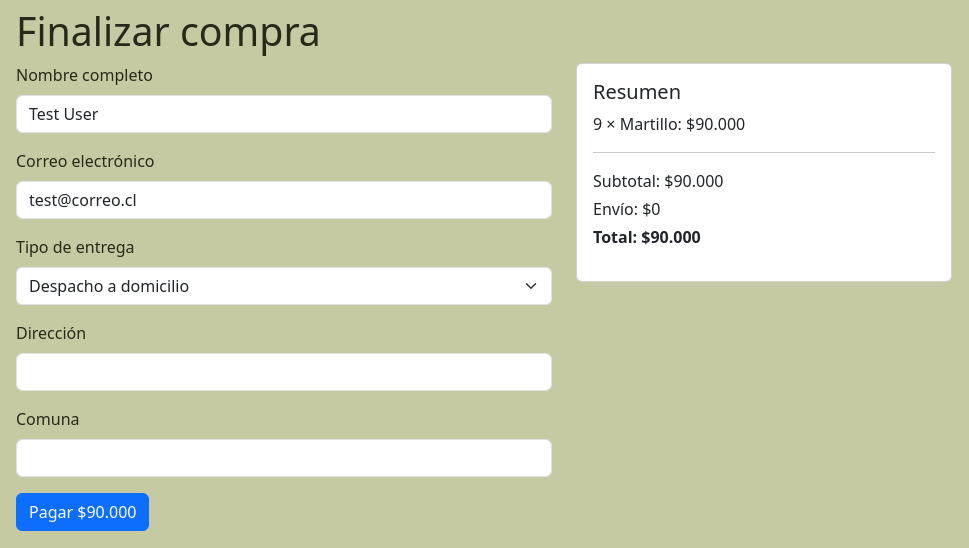
Scenario: CheckoutPage › shows the payment error inline and keeps the cart
This screenshot has width=969, height=548.
Select "Retiro en tienda (sin costo)" in the dropdown labelled "Tipo de entrega" at (284, 286), box [16,267,552,305]
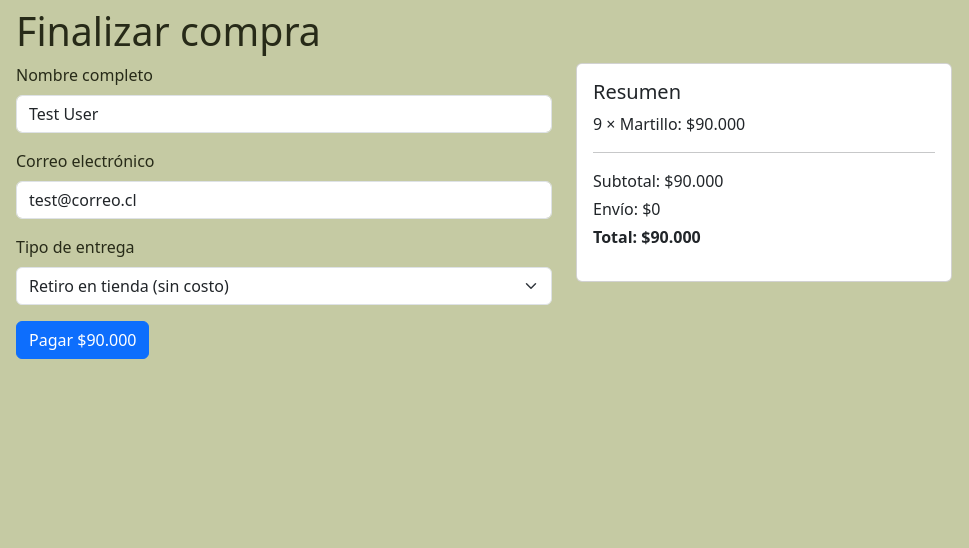
Click the button "Pagar $90.000" at (83, 340), box [16,321,150,359]
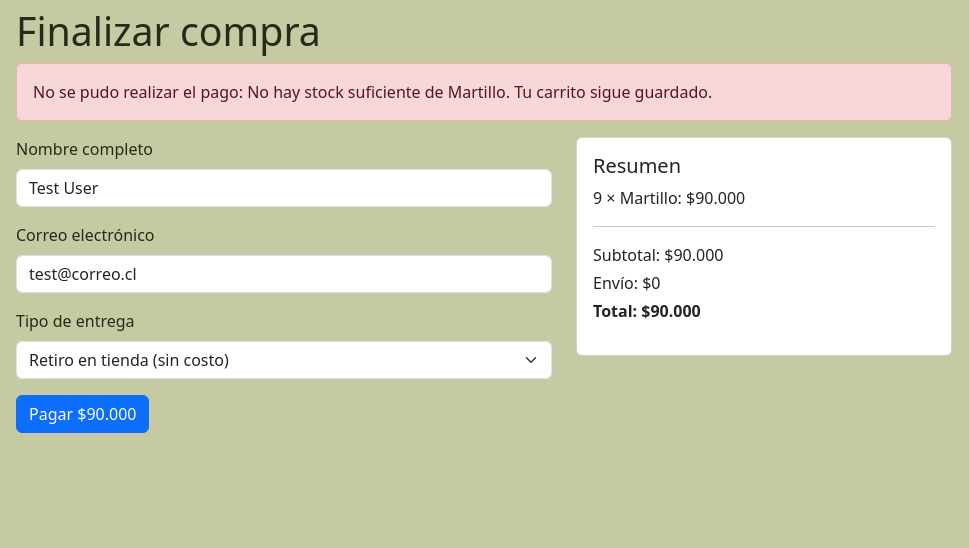
Expected: the text "No hay stock suficiente de Martillo" is shown, [247,81,510,103]
